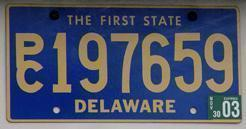placa de veiculo: (6, 3, 244, 125)
